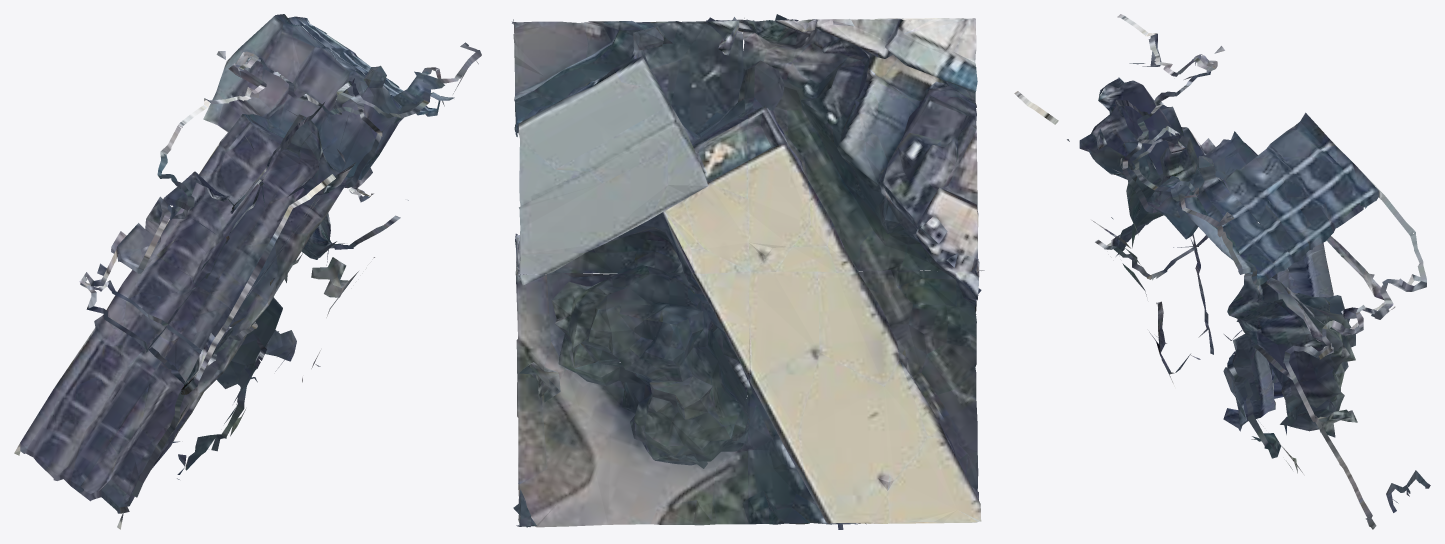
File: UlRPVEYubm9kZWRhdGEucGxhbmV0b2lkPWVhcnRoLG5vZGVfZGF0YV9lcG9jaD05MTYscGF0aD0zMTQzNDE1MjYwNzM2MjcxNzY1MixjYWNoZV92ZXJzaW9uPTY.glb
3 renders of one model, left to right at view 1: azimuth 30°, elevation 25°; view 2: azimuth 150°, elevation 25°; view 3: azimuth 270°, elevation 25°, orthographic. The views are drawn at different scales.
Size of the model in its own units: 43.54 by 40.65 by 37.93.
1 material, 1 textured.
